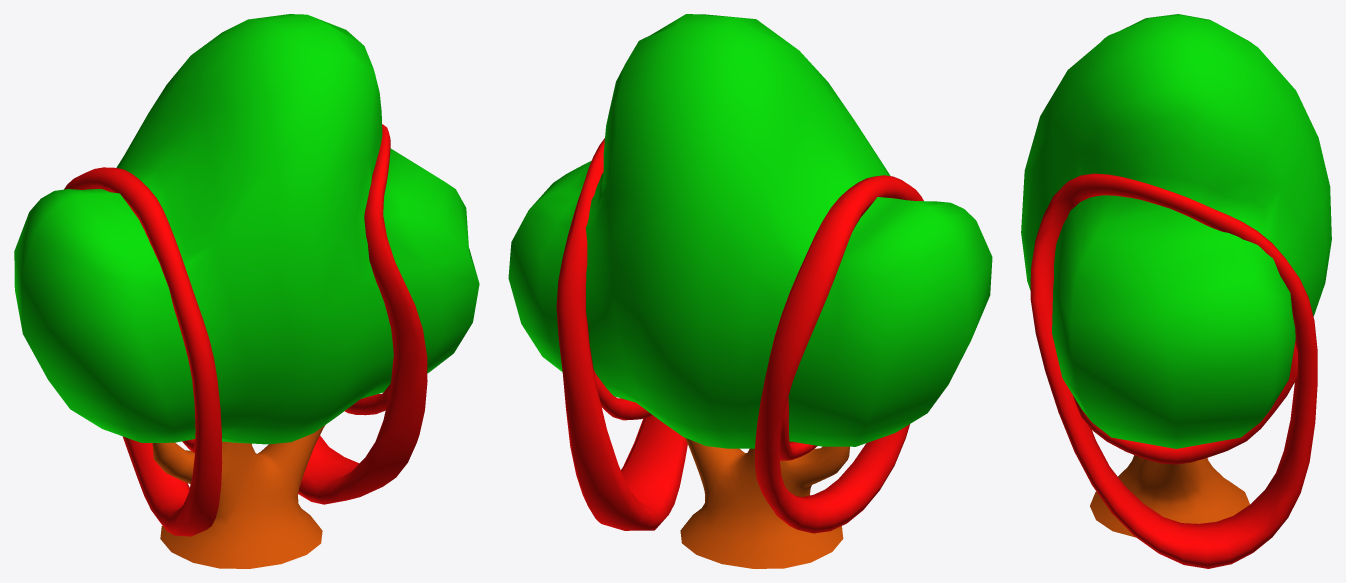
File: BubbleTree_01.fbx
The picture shows the model from 3 angles, left to right: view 1: azimuth 30°, elevation 25°; view 2: azimuth 150°, elevation 25°; view 3: azimuth 270°, elevation 25°; orthographic projection.
Parts seen in each view (by area): view 1: BubbleTree_01_LOD0; view 2: BubbleTree_01_LOD0; view 3: BubbleTree_01_LOD0.
Boxes of the visible parts, x1,y1,x2,y2 form: BubbleTree_01_LOD0: (14,14,479,568); BubbleTree_01_LOD0: (508,14,992,568); BubbleTree_01_LOD0: (1021,14,1331,568).
Size of what is drawn, in the model's own units: 826 by 900 by 498.
